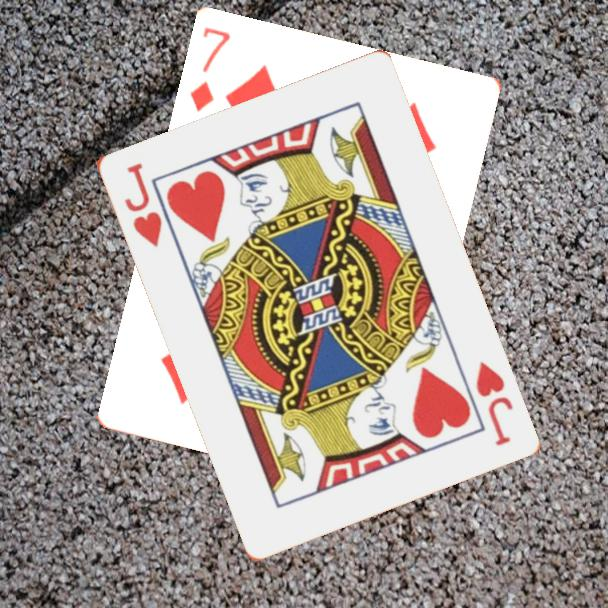d07: (186, 23, 233, 114)
h11: (471, 357, 516, 449), (120, 159, 165, 250)
